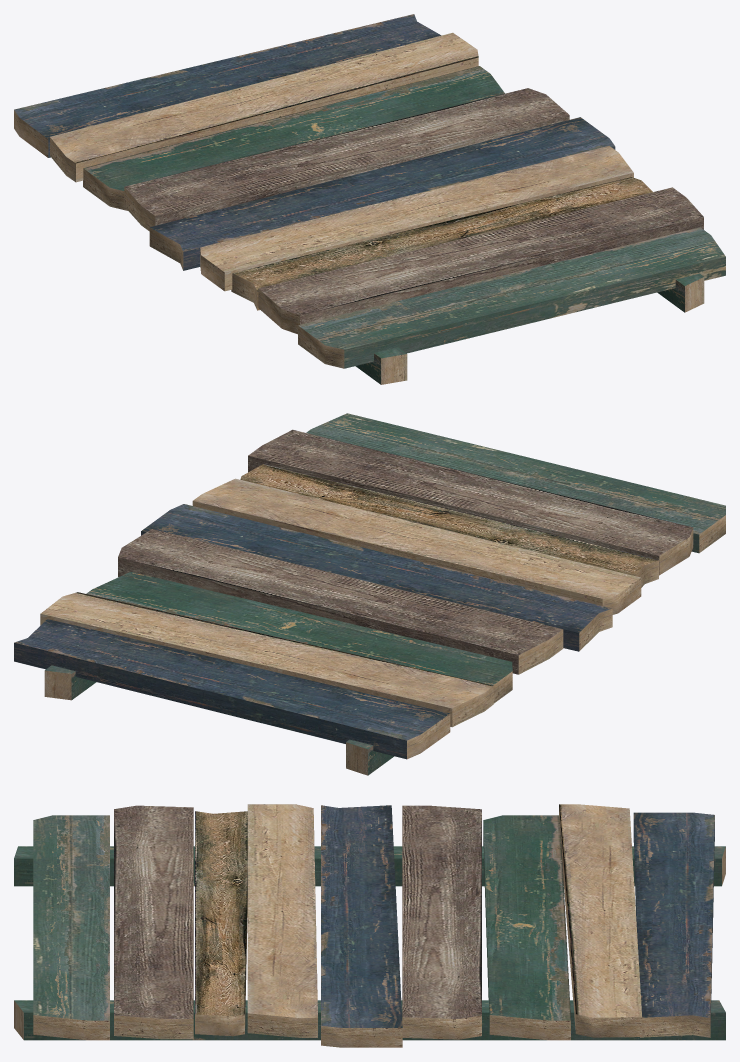
The model's file is Prop_BcMb01.glb.
3 views of the same model, one above another, from view 1: azimuth 30°, elevation 25°; view 2: azimuth 150°, elevation 25°; view 3: azimuth 270°, elevation 25° (orthographic). The views are drawn at different scales.
Visible parts, largest first — view 1: xiutz_bc_mb_01; view 2: xiutz_bc_mb_01; view 3: xiutz_bc_mb_01.
Part boxes in pixels (x1,y1,x2,y2): xiutz_bc_mb_01: [14, 14, 725, 384]; xiutz_bc_mb_01: [14, 413, 725, 775]; xiutz_bc_mb_01: [14, 804, 725, 1047].
Bounding box in the file's own units: 3.56 × 0.3484 × 4.81.
1 material, 1 textured.
